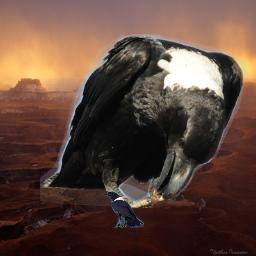Crow: (40, 31, 247, 214), (103, 191, 144, 228)
